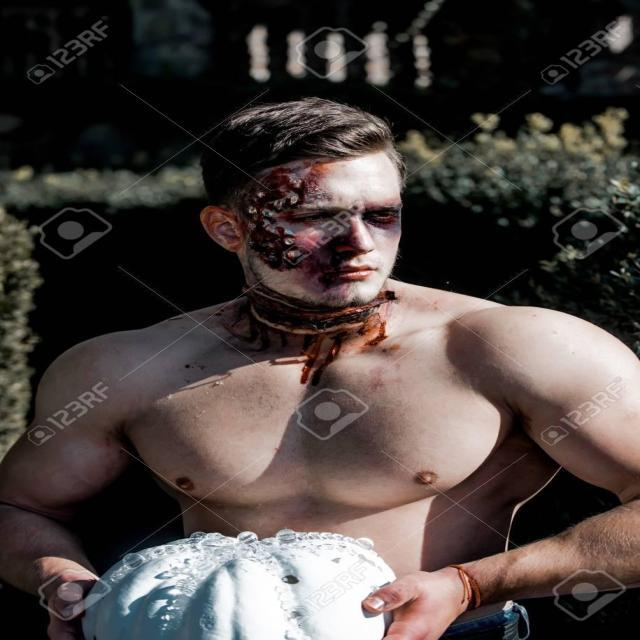flood: (231, 292, 397, 356), (252, 165, 310, 269)
